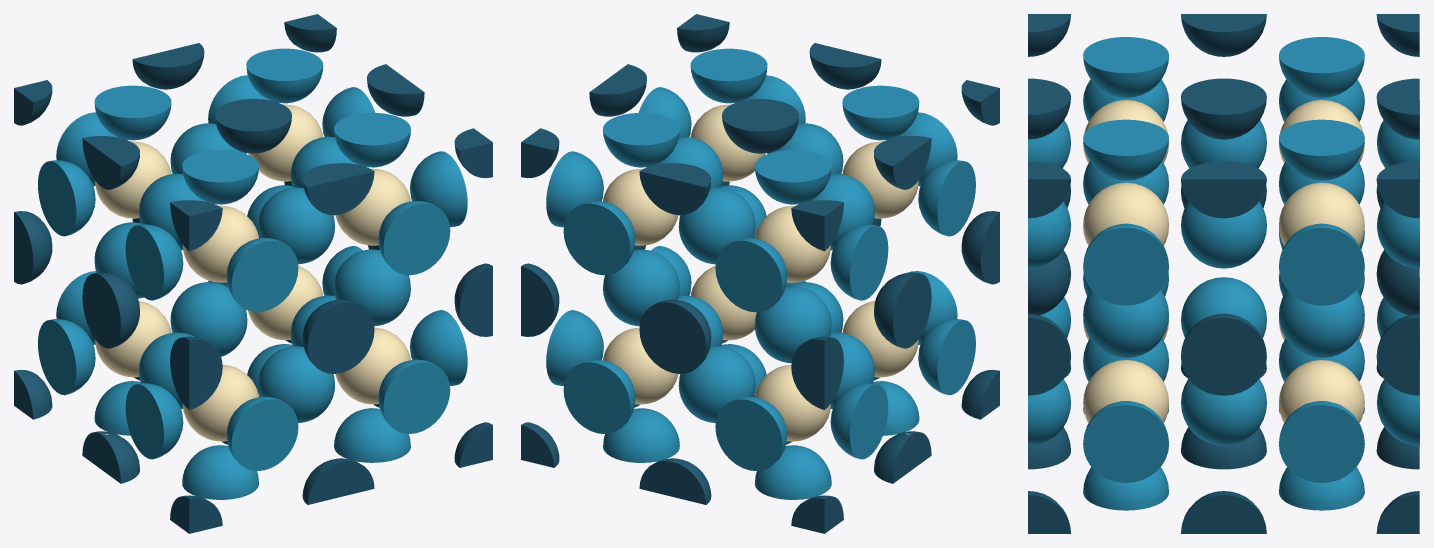
File: jingbao4.gltf
3 views of the same model, side by side, from view 1: azimuth 30°, elevation 25°; view 2: azimuth 150°, elevation 25°; view 3: azimuth 270°, elevation 25° (orthographic). The views are drawn at different scales.
Parts seen in each view (by area): view 1: 对象181; view 2: 对象181; view 3: 对象181.
Part boxes in pixels (bbox=[...]): 对象181: bbox=[14, 14, 492, 533]; 对象181: bbox=[521, 14, 999, 533]; 对象181: bbox=[1028, 14, 1419, 533].
Size of the model in its own units: 100 by 100 by 100.
Materials: 3 (3 with a texture image).
